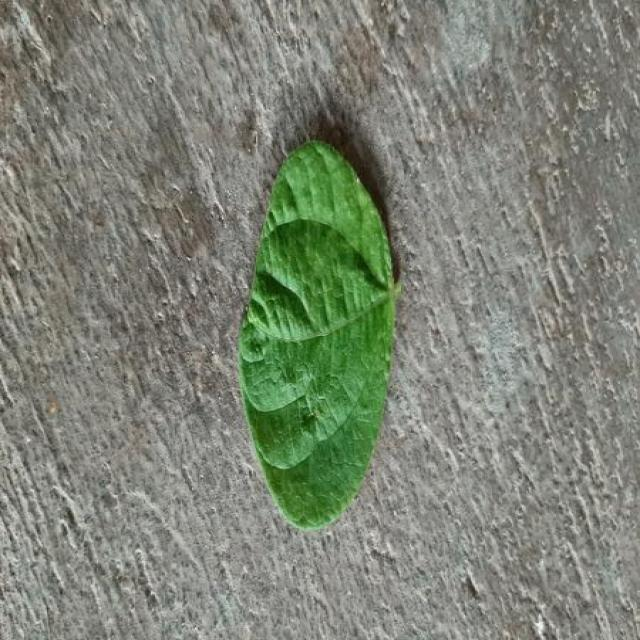beans: (240, 141, 398, 529)
